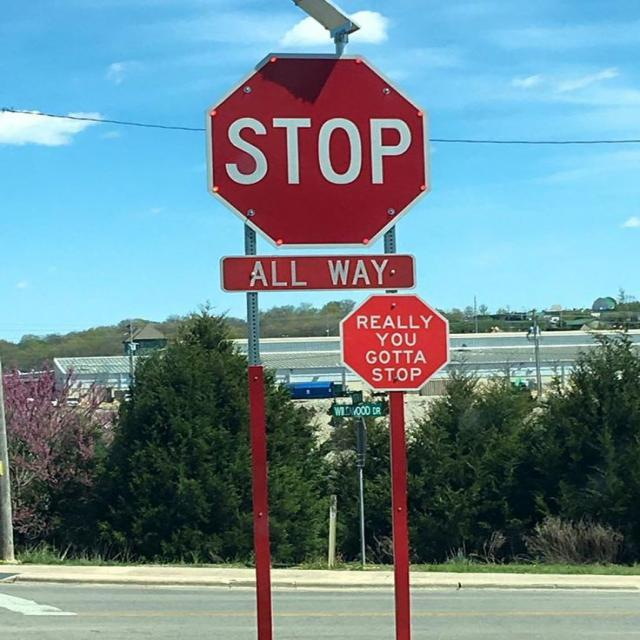stop: (205, 51, 429, 248), (339, 293, 450, 392)
